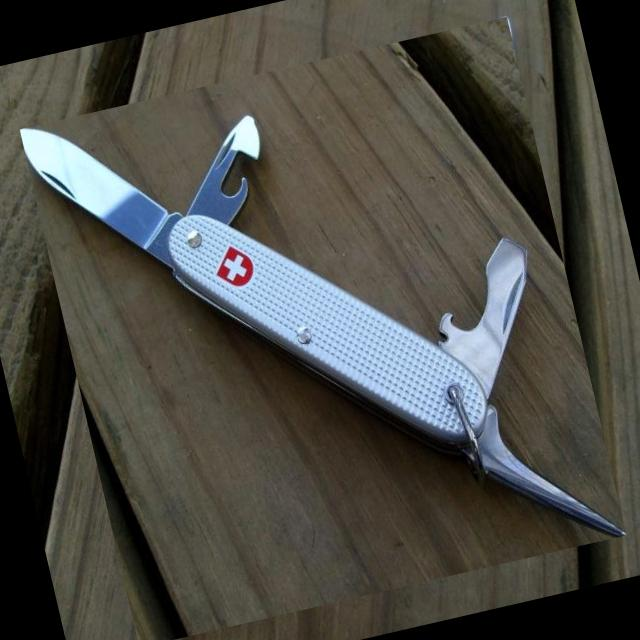Knife: (20, 117, 626, 536)
